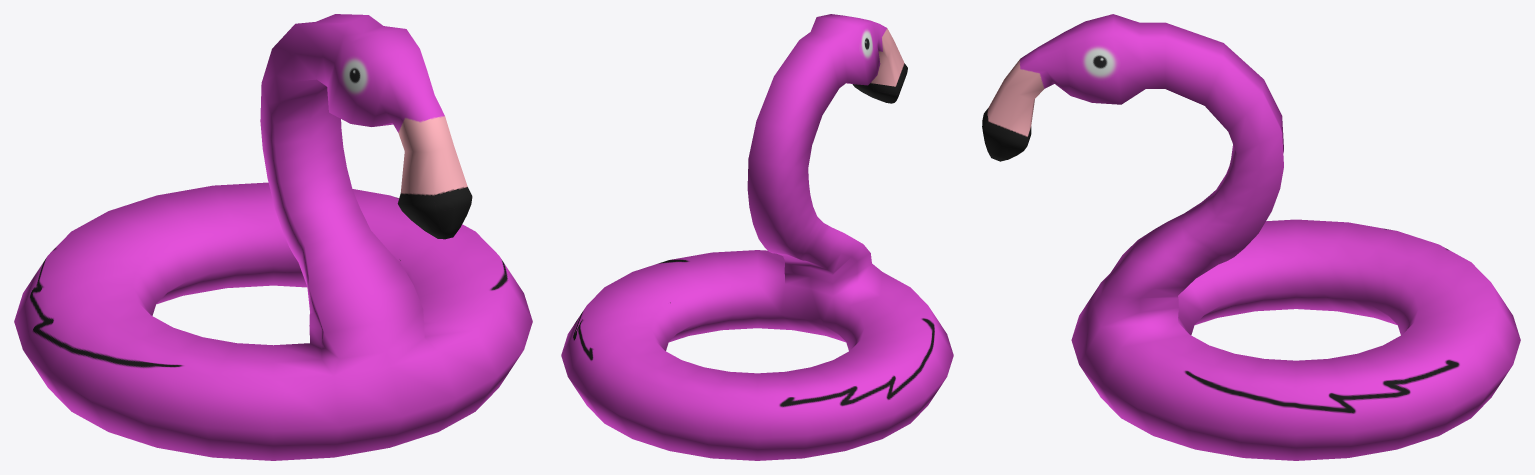
Rendered from flamingo.fbx.
3 views of the same model, side by side, from view 1: azimuth 30°, elevation 25°; view 2: azimuth 150°, elevation 25°; view 3: azimuth 270°, elevation 25° (orthographic). The views are drawn at different scales.
Parts seen in each view (by area): view 1: Torus.013; view 2: Torus.013; view 3: Torus.013.
Boxes of the visible parts, x1=… form: Torus.013: x1=14, y1=14, x2=532, y2=460; Torus.013: x1=561, y1=14, x2=953, y2=460; Torus.013: x1=982, y1=14, x2=1520, y2=460.
Bounding box in the file's own units: 250 × 216 × 300.
Materials: 1 (1 with a texture image).
